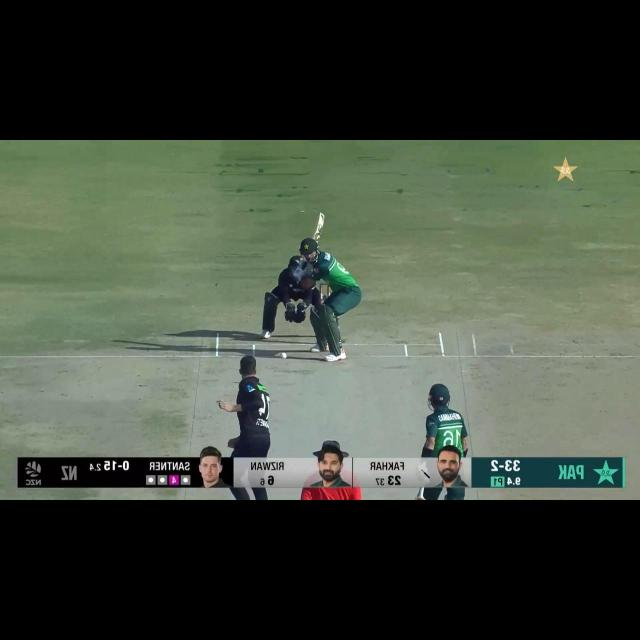bat: (313, 213, 327, 242), (413, 485, 429, 500)
toe: (315, 209, 328, 221)
